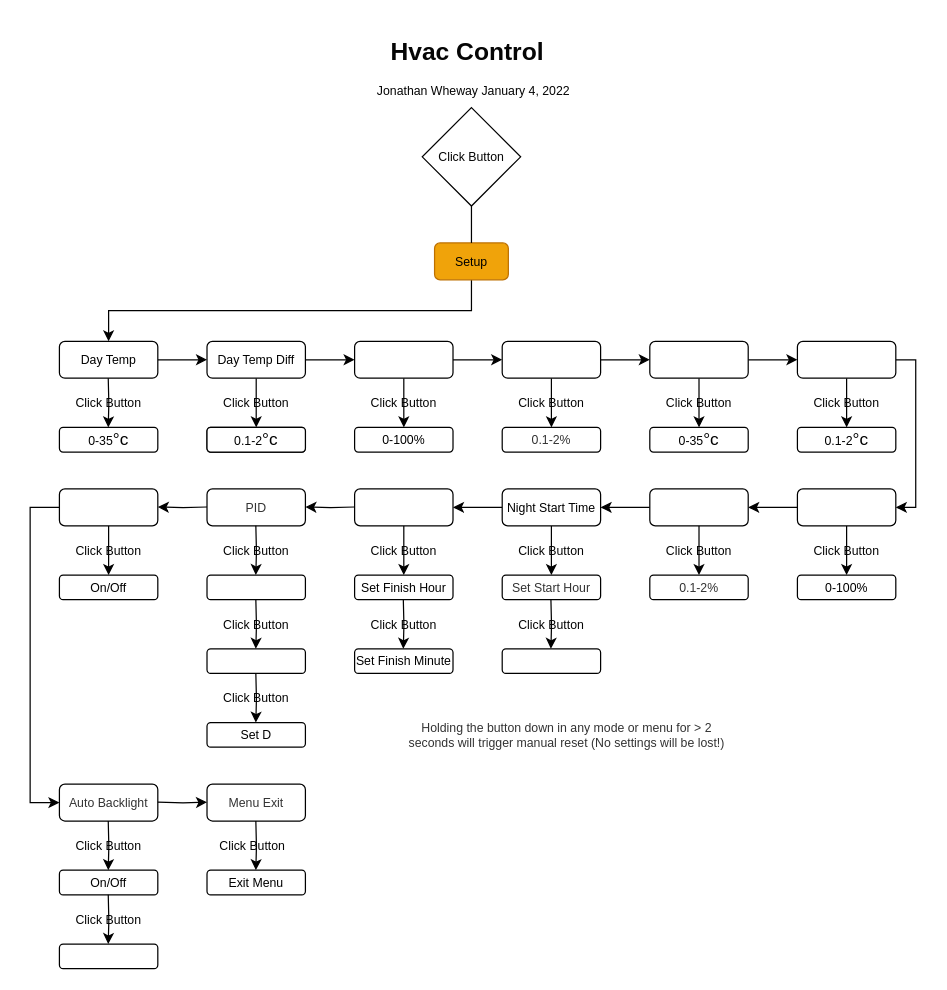
Image size: 947x990. Some labels were removed from this diagram. Each missing label, with the centre of its shape:
"0-30 seconds" goes at (108,956).
"Day Hum" goes at (403,359).
"Day Hum Diff" goes at (551,359).
"Daylight Saving" goes at (108,507).
"Night Finish Time" goes at (403,507).
"Night Hum" goes at (846,507).
"Night Hum Diff" goes at (698,507).
"Night Temp" goes at (698,359).
"Night Temp Diff" goes at (846,359).
"Set I" goes at (255,660).
"Set P" goes at (255,587).
"Set Start Minute" goes at (551,660).
